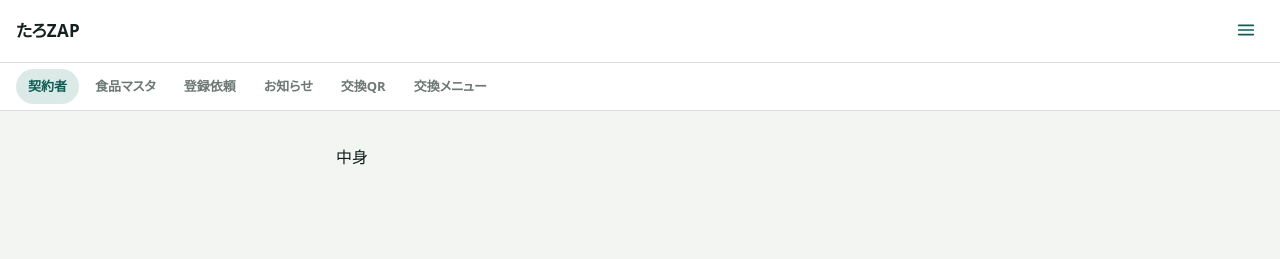
Test: 右上のメニュー › パスワードの変更を押すと、呼ばれて閉じる
Click the button named "メニュー".
click(1246, 30)  # box 1228,12 -> 1264,48
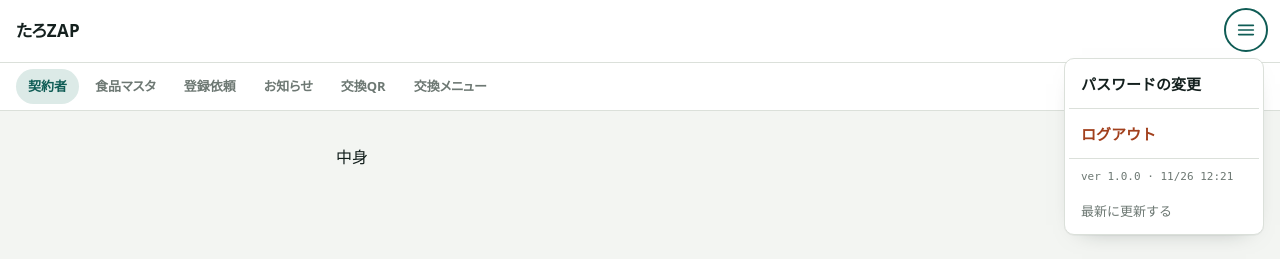
Click the menu item "パスワードの変更".
click(1164, 83)  # box 1069,63 -> 1259,104
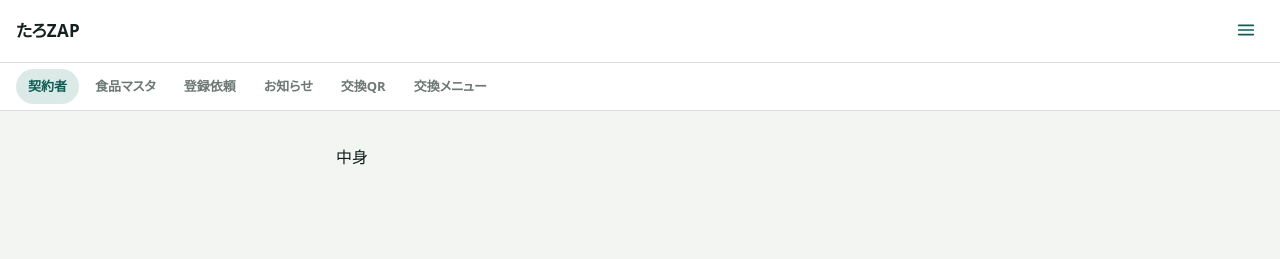
Check: the menu is gone
